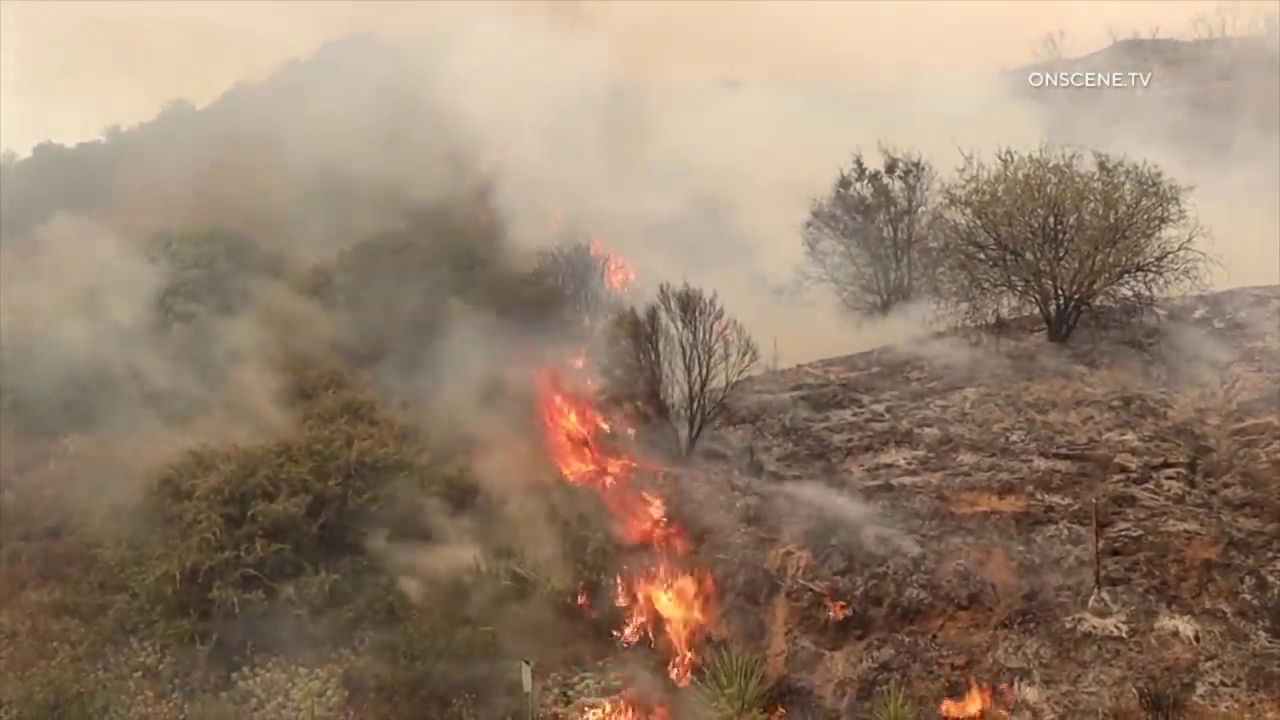forest_fire: (539, 372, 717, 686), (939, 683, 994, 719), (582, 697, 668, 719), (591, 246, 633, 288)
